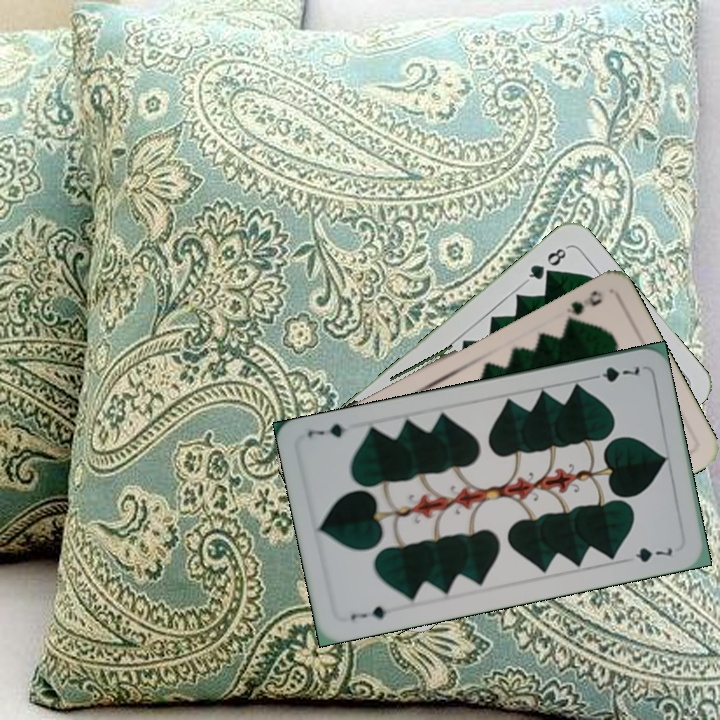G7: (585, 362, 642, 385), (346, 602, 398, 623)
G8: (521, 242, 571, 285)
G9: (559, 286, 605, 323)
